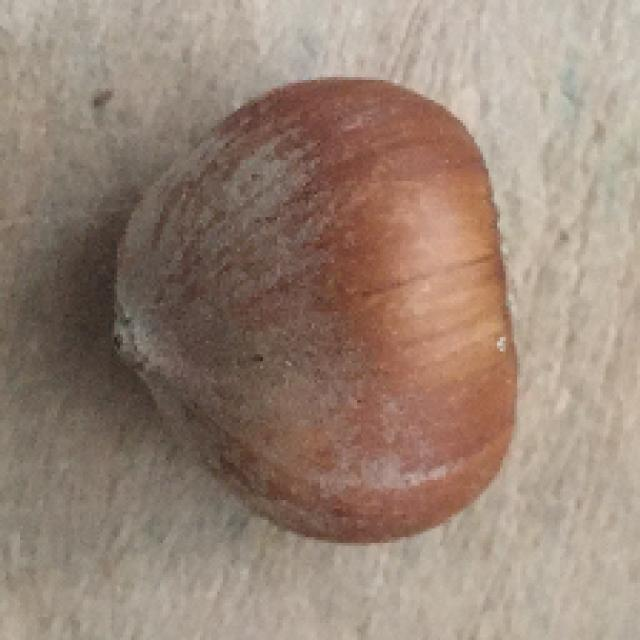qualityHazelnut: (125, 77, 523, 543)
